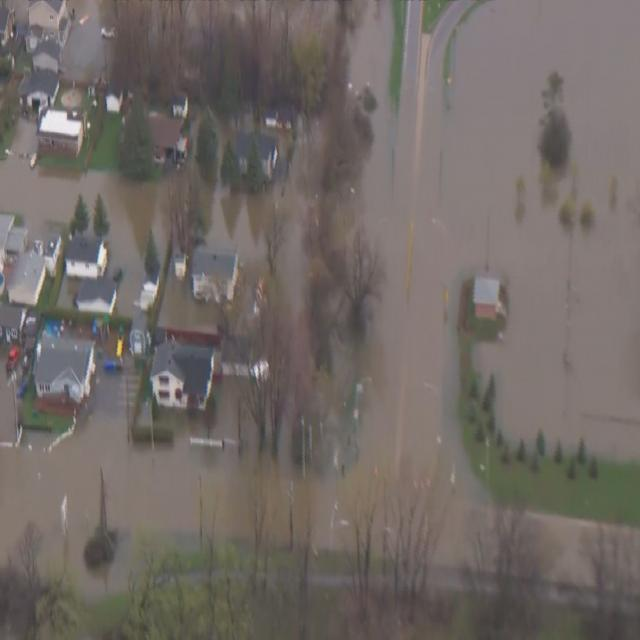flood: (0, 0, 640, 612), (0, 126, 302, 332)
house: (31, 312, 99, 415), (148, 314, 218, 411), (64, 192, 112, 282), (188, 242, 246, 306), (0, 213, 46, 284), (36, 102, 88, 161), (24, 62, 60, 116), (472, 272, 502, 323)
